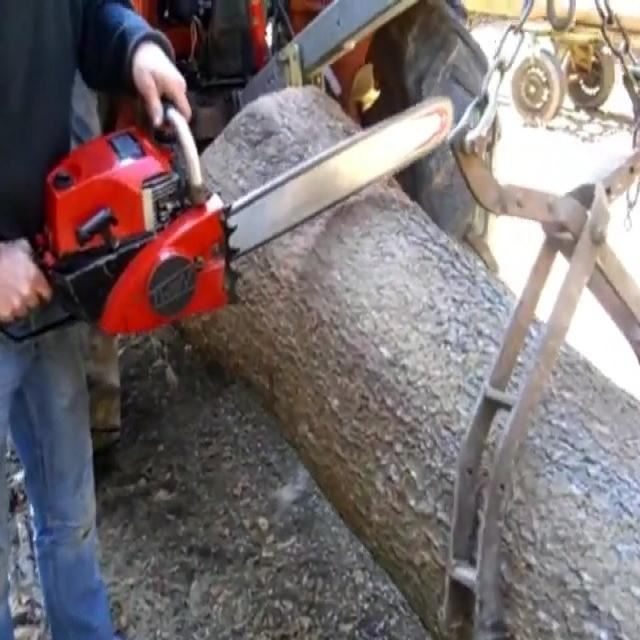Chainsaw: (4, 59, 467, 360)
